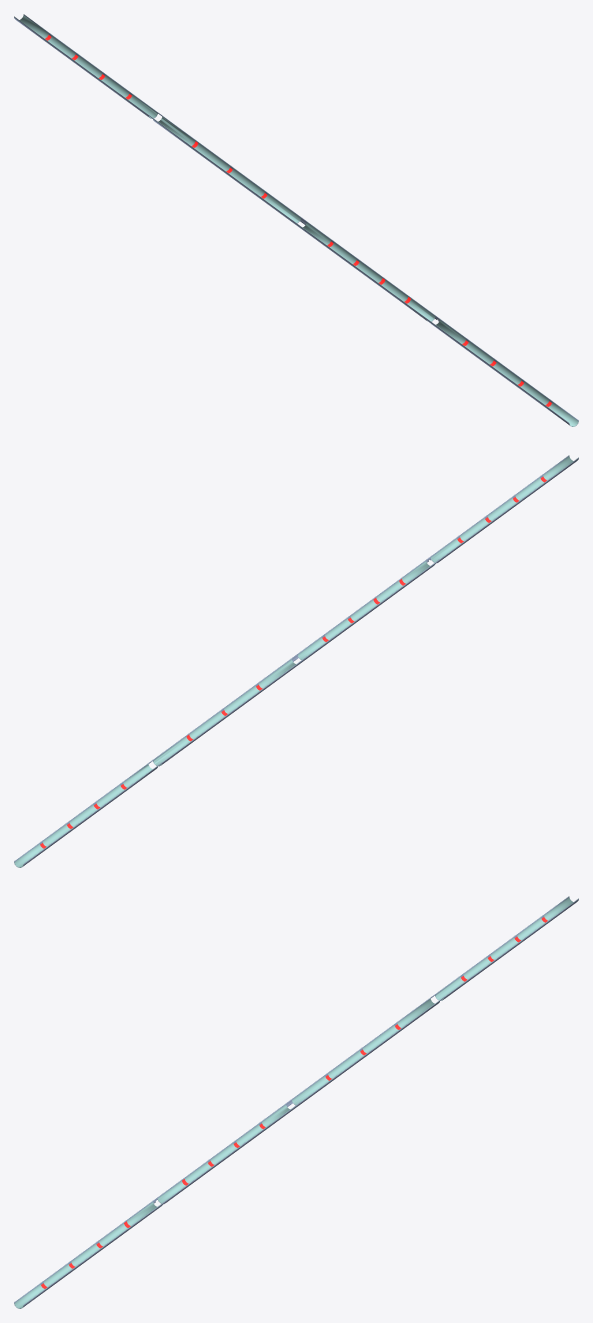
File: LongSlide_Collection.fbx
3 views of the same model, one above another, from view 1: azimuth 30°, elevation 25°; view 2: azimuth 150°, elevation 25°; view 3: azimuth 330°, elevation 25° (orthographic).
Visible parts, largest first — view 1: Slide; view 2: Slide; view 3: Slide.
Boxes of the visible parts, x1=… form: Slide: x1=14, y1=14, x2=578, y2=426; Slide: x1=14, y1=455, x2=578, y2=867; Slide: x1=14, y1=896, x2=578, y2=1308.
Size of the model in its own units: 410 by 206 by 40000.
